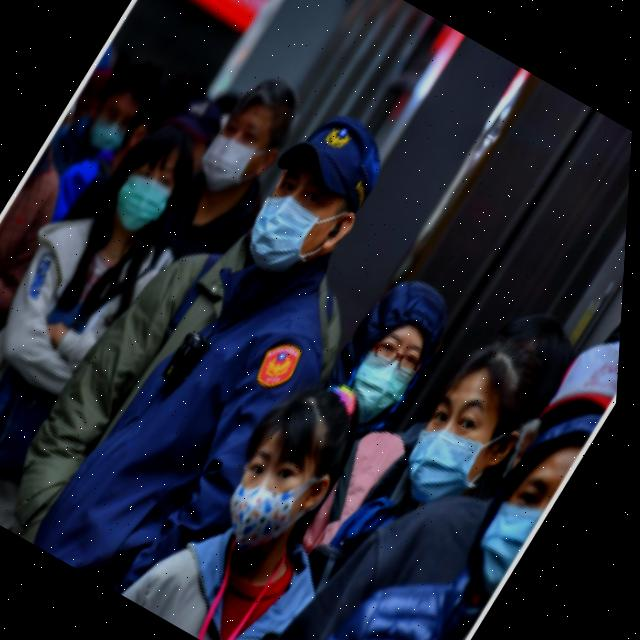Mask: (398, 381, 533, 519), (214, 436, 343, 568), (461, 456, 573, 592), (327, 318, 439, 438), (189, 110, 292, 212), (103, 151, 188, 240), (81, 88, 148, 158), (603, 265, 628, 364)
